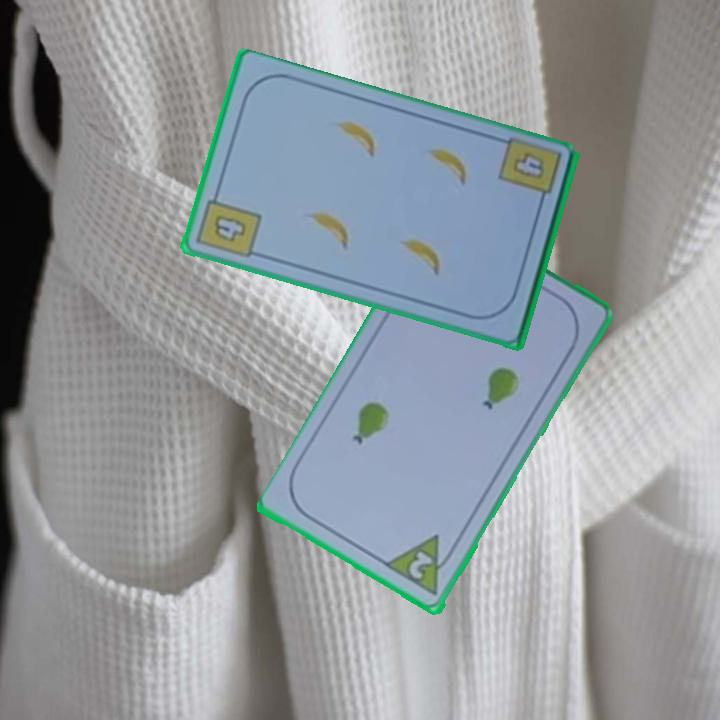2p: (383, 531, 460, 600)
4b: (193, 186, 264, 262), (508, 149, 547, 183)
